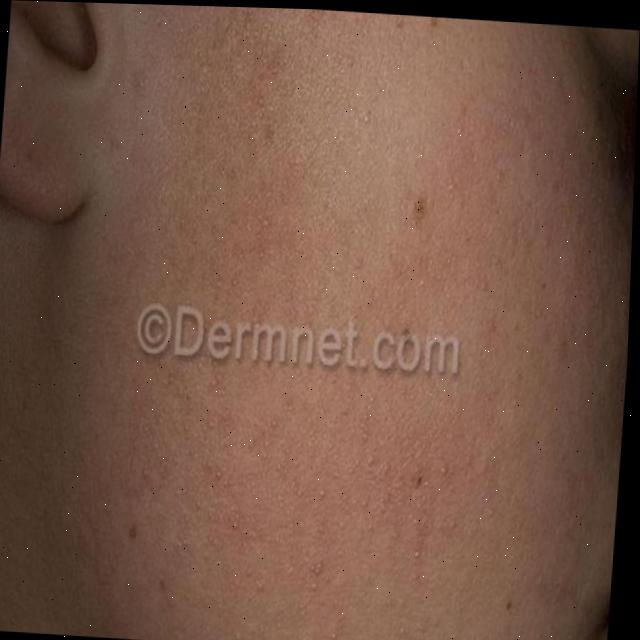Eczema: (176, 160, 573, 545)
